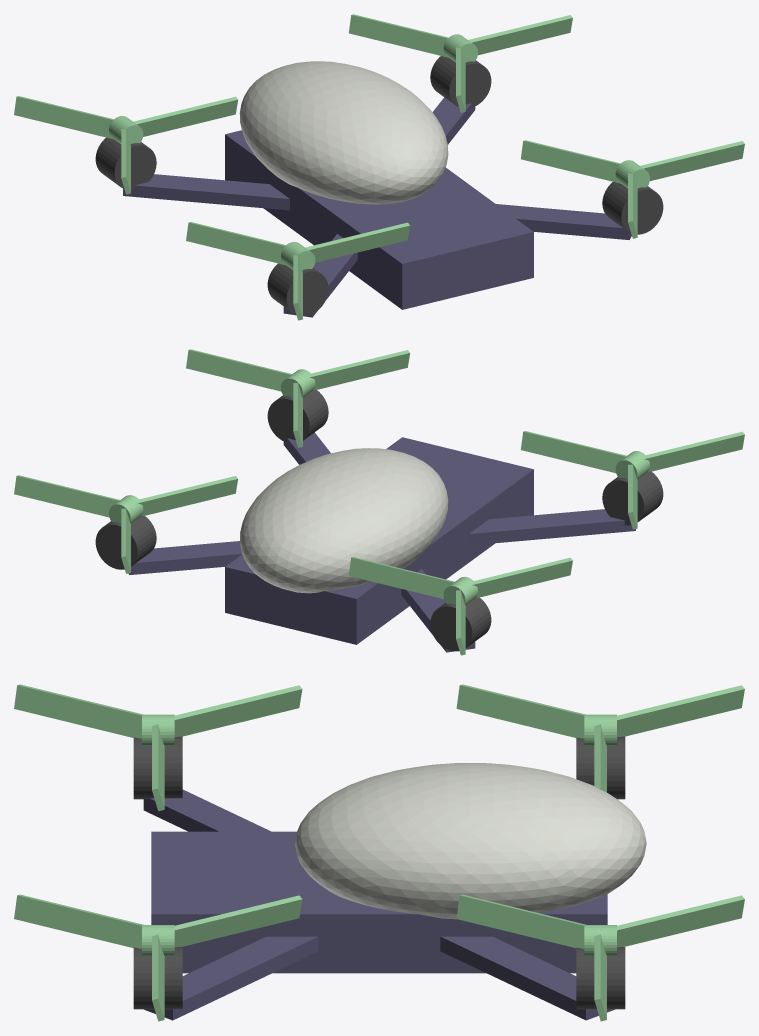
File: FPVCycle Glide.glb
3 views of the same model, one above another, from view 1: azimuth 30°, elevation 25°; view 2: azimuth 150°, elevation 25°; view 3: azimuth 270°, elevation 25° (orthographic). The views are drawn at different scales.
Parts seen in each view (by area): view 1: canopy, frame_body, prop_0, prop_1, prop_3, prop_2, arm_3, arm_0, motor_0, motor_2, motor_1, motor_3 (+2 smaller); view 2: canopy, frame_body, prop_0, prop_2, prop_3, prop_1, arm_2, arm_1, motor_3, motor_1, motor_0, motor_2 (+2 smaller); view 3: canopy, frame_body, prop_2, prop_0, prop_1, prop_3, arm_1, arm_0, arm_2, motor_0, motor_1, motor_2 (+1 smaller).
Part boxes in pixels (x1,y1,x2,y2): canopy: (239,61,448,204); frame_body: (225,130,533,309); prop_0: (521,140,744,238); prop_1: (349,14,572,112); prop_3: (14,96,237,194); prop_2: (186,222,410,320); arm_3: (123,174,289,210); arm_0: (496,204,631,239); motor_0: (602,182,663,234); motor_2: (267,263,328,316); motor_1: (430,56,491,107); motor_3: (95,137,156,190); canopy: (239,448,448,593); frame_body: (225,437,533,644); prop_0: (186,349,409,447); prop_2: (520,431,744,529); prop_3: (348,557,572,655); prop_1: (14,475,237,573); arm_2: (469,509,635,545); arm_1: (128,541,241,574); motor_3: (430,597,491,651); motor_1: (95,516,156,569); motor_0: (267,390,328,442); motor_2: (602,471,663,525); canopy: (294,763,646,919); frame_body: (151,831,607,973); prop_2: (14,684,302,811); prop_0: (14,894,302,1021); prop_1: (456,894,744,1021); prop_3: (456,684,744,792); arm_1: (440,936,614,1020); arm_0: (144,936,318,1020); arm_2: (143,789,270,831); motor_0: (133,947,182,1009); motor_1: (576,947,625,1009); motor_2: (133,736,182,799).
Size of the model in its own units: 0.2293 by 0.0516 by 0.2243.
